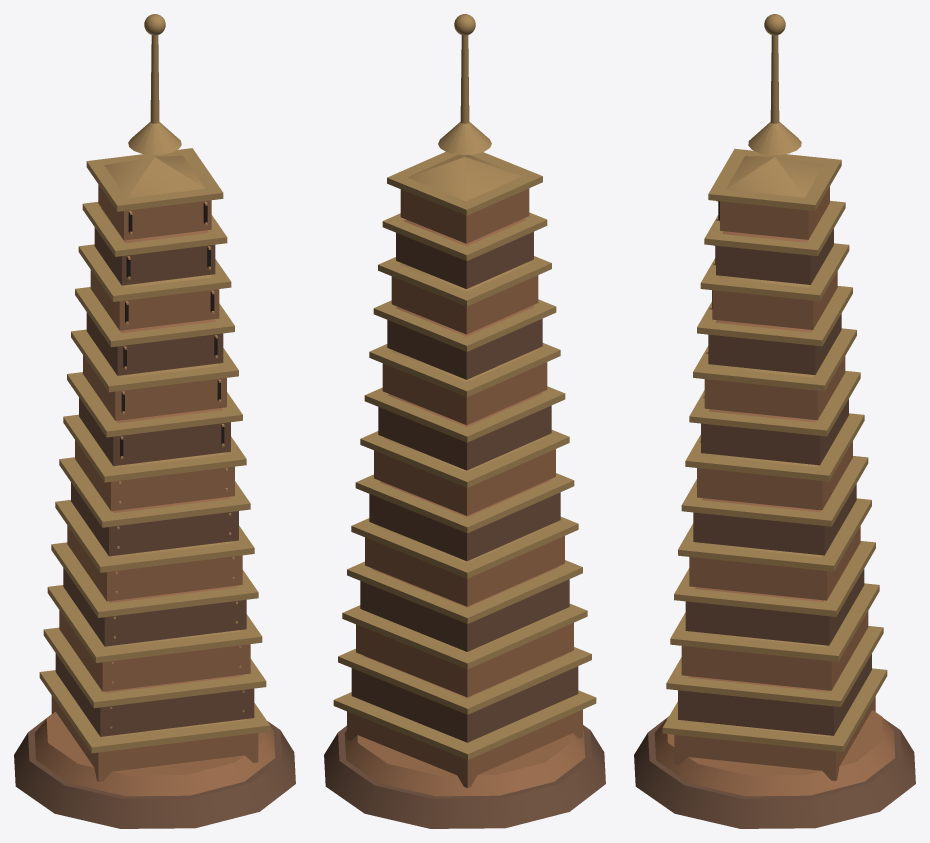
3 renders of one model, left to right at view 1: azimuth 30°, elevation 25°; view 2: azimuth 150°, elevation 25°; view 3: azimuth 270°, elevation 25°, orthographic.
Visible parts, largest first — view 1: GlazedBrickBody (×13), Eave_Band (×13), Foundation_Platform, Foundation_Step, Roof_Eave, Finial_Crown, Finial_Shaft; view 2: GlazedBrickBody (×13), Eave_Band (×13), Foundation_Platform, Foundation_Step, Roof_Eave, Finial_Crown, Finial_Shaft; view 3: GlazedBrickBody (×13), Eave_Band (×13), Foundation_Platform, Foundation_Step, Roof_Eave, Finial_Crown, Finial_Shaft.
Boxes of the visible parts, x1=… form: GlazedBrickBody (×13): x1=51, y1=184, x2=258, y2=781; Eave_Band (×13): x1=39, y1=148, x2=270, y2=753; Foundation_Platform: x1=14, y1=714, x2=295, y2=828; Foundation_Step: x1=34, y1=712, x2=275, y2=796; Roof_Eave: x1=104, y1=155, x2=205, y2=198; Finial_Crown: x1=128, y1=122, x2=181, y2=154; Finial_Shaft: x1=150, y1=35, x2=159, y2=123; GlazedBrickBody (×13): x1=347, y1=188, x2=582, y2=787; Eave_Band (×13): x1=333, y1=152, x2=596, y2=759; Foundation_Platform: x1=324, y1=725, x2=605, y2=828; Foundation_Step: x1=344, y1=730, x2=585, y2=796; Roof_Eave: x1=407, y1=154, x2=522, y2=201; Finial_Crown: x1=438, y1=122, x2=491, y2=155; Finial_Shaft: x1=460, y1=35, x2=469, y2=123; GlazedBrickBody (×13): x1=674, y1=186, x2=875, y2=780; Eave_Band (×13): x1=662, y1=148, x2=887, y2=752; Foundation_Platform: x1=634, y1=716, x2=915, y2=828; Foundation_Step: x1=654, y1=710, x2=895, y2=796; Roof_Eave: x1=726, y1=156, x2=823, y2=197; Finial_Crown: x1=748, y1=122, x2=801, y2=154; Finial_Shaft: x1=770, y1=35, x2=779, y2=123.
Size of the model in its own units: 4.7 by 13.88 by 4.7.
